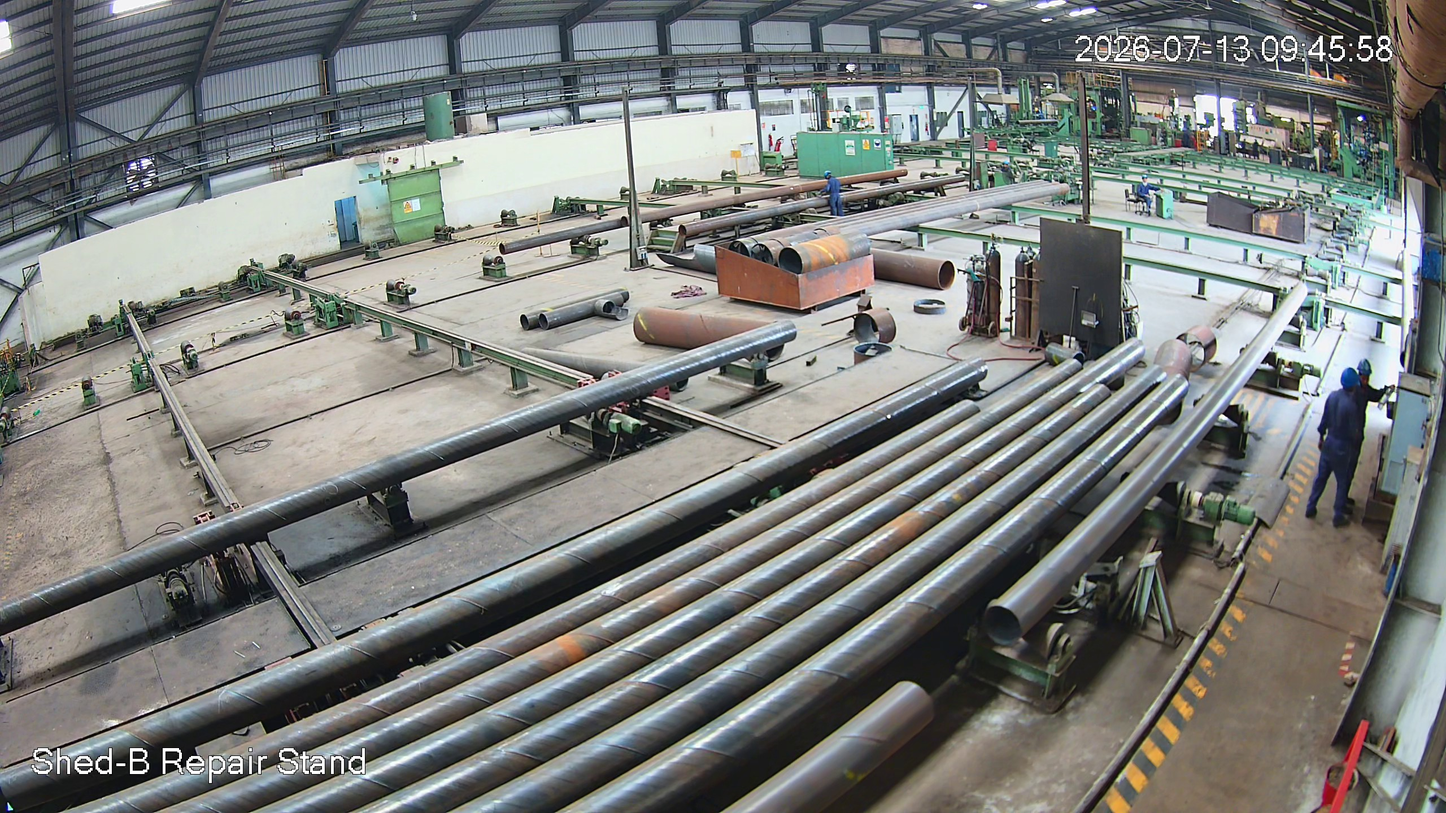Helmet: (1337, 362, 1382, 414), (822, 169, 837, 188)
Person: (1307, 367, 1364, 530), (823, 170, 846, 226)
